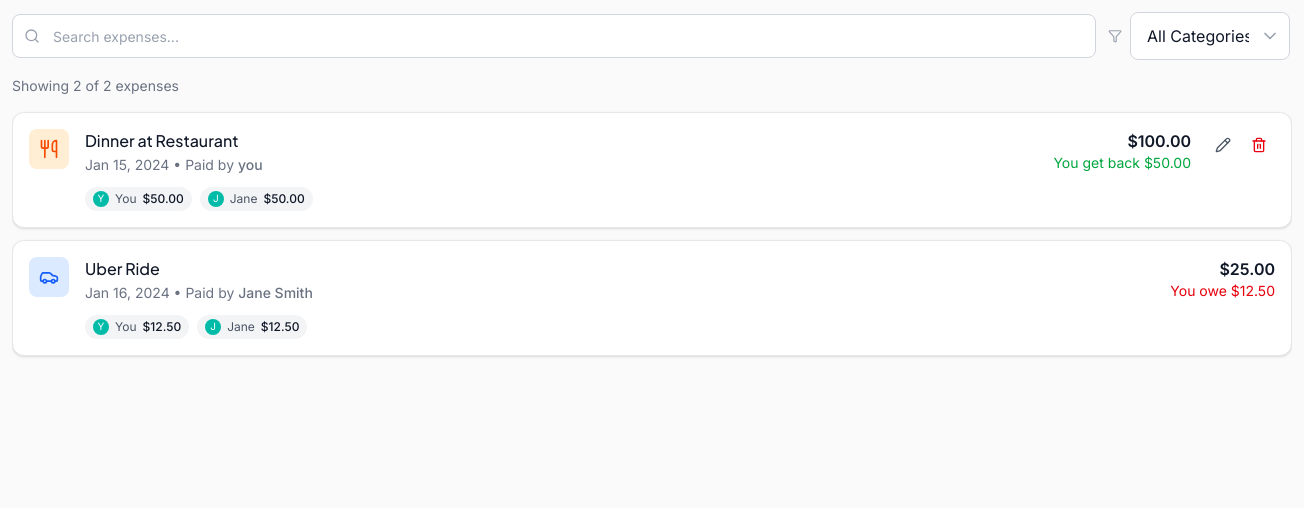
it: ExpensesList › cancels edit when cancel button clicked
Click the button titled "Edit expense" at (1223, 145), box [1207, 129, 1239, 161]
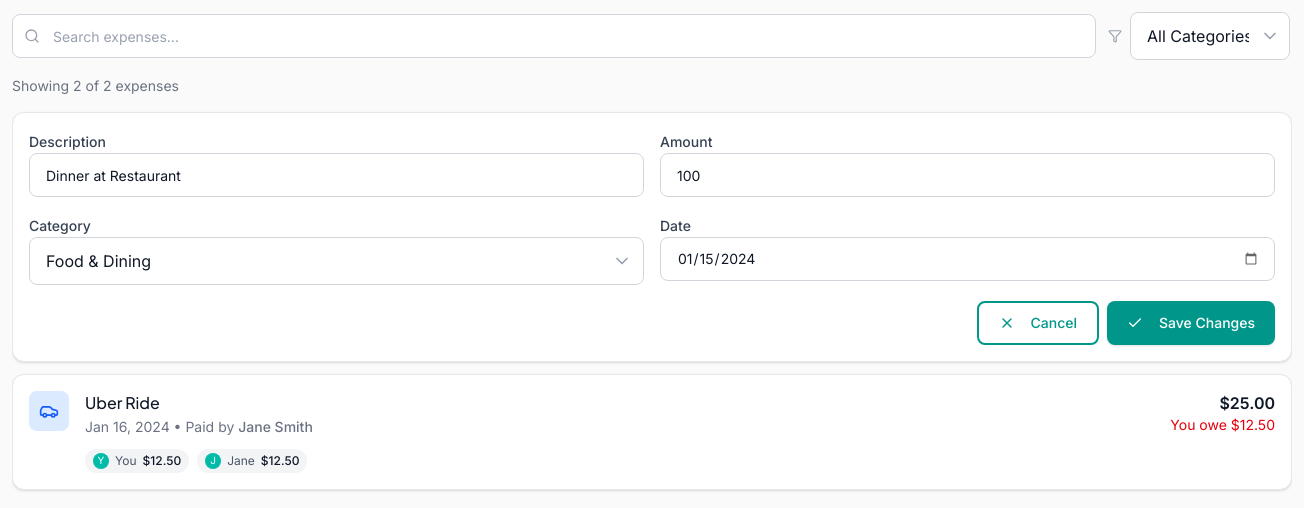
Click the button "Cancel" at (1038, 323), box [976, 301, 1099, 345]
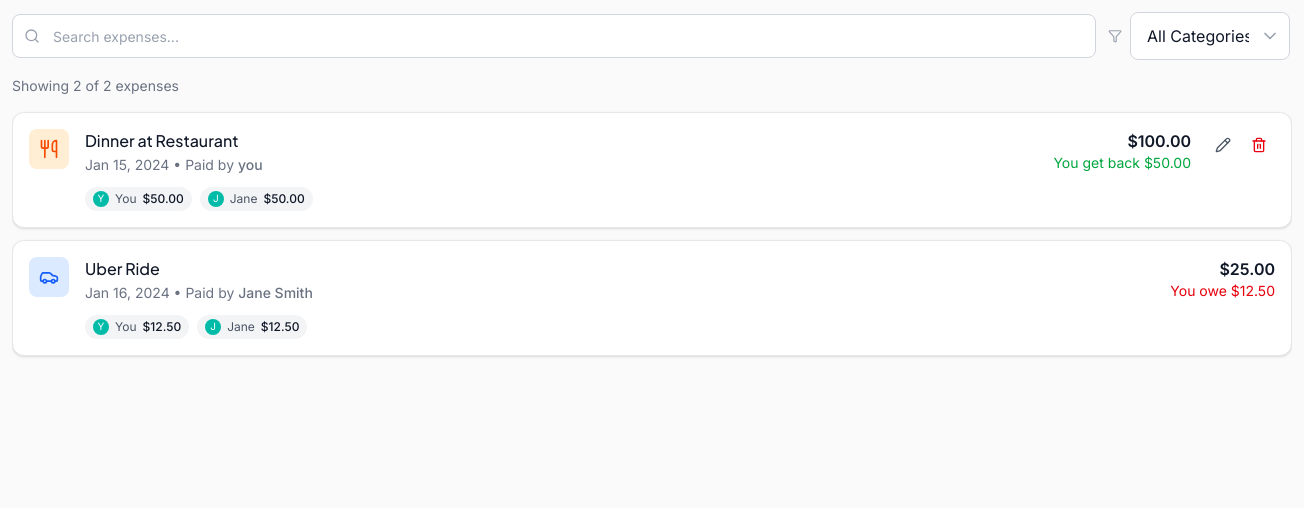
Result: the button "Save Changes" is gone
